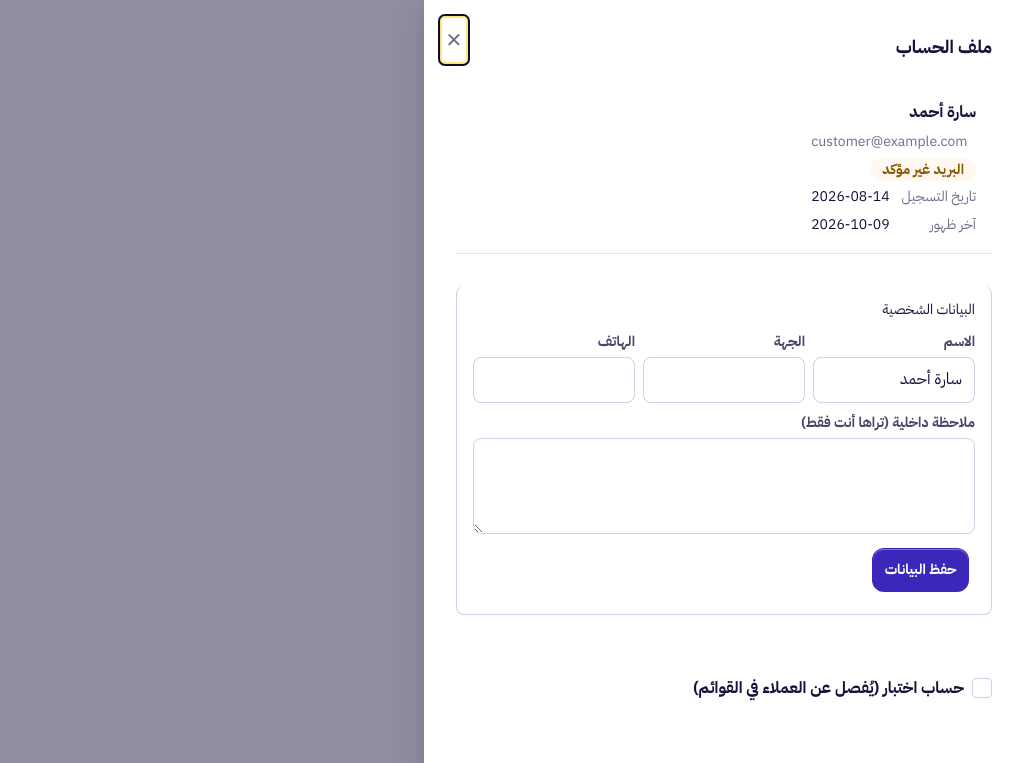
Test: AccountFile › names the database's refusal of a field too long
The width and height of the screenshot is (1024, 763).
Click the button "حفظ البيانات": x=921, y=570 [872,548,969,592]
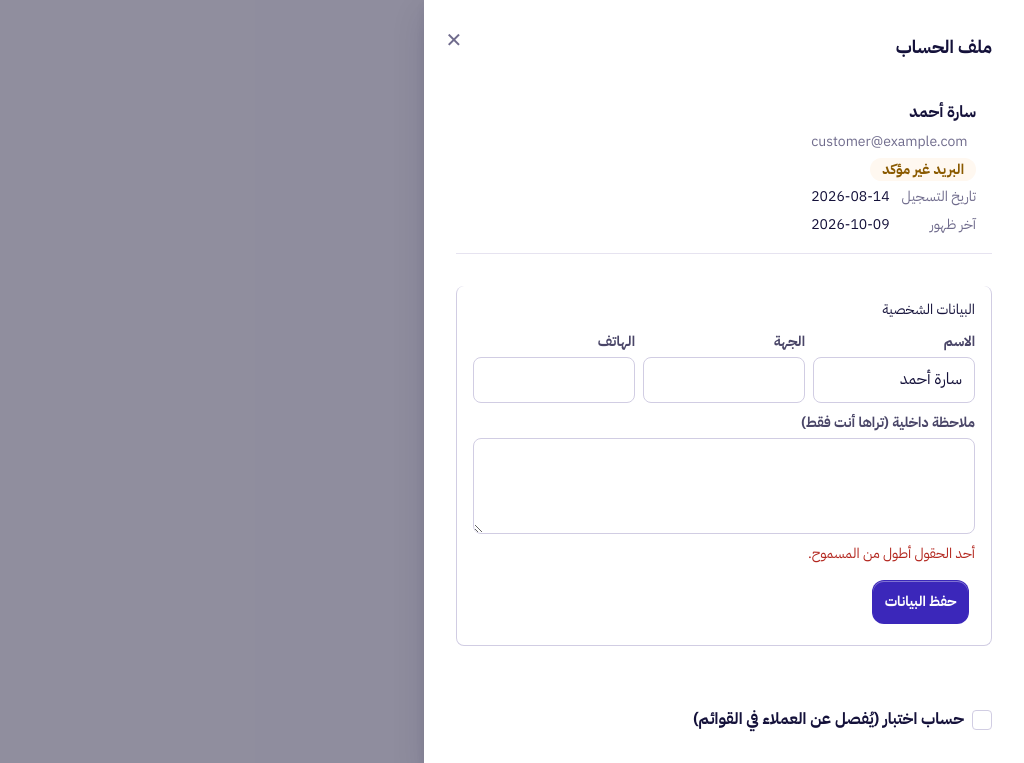
Expected: the message reads "أحد الحقول أطول من المسموح.", [808,543,975,564]
